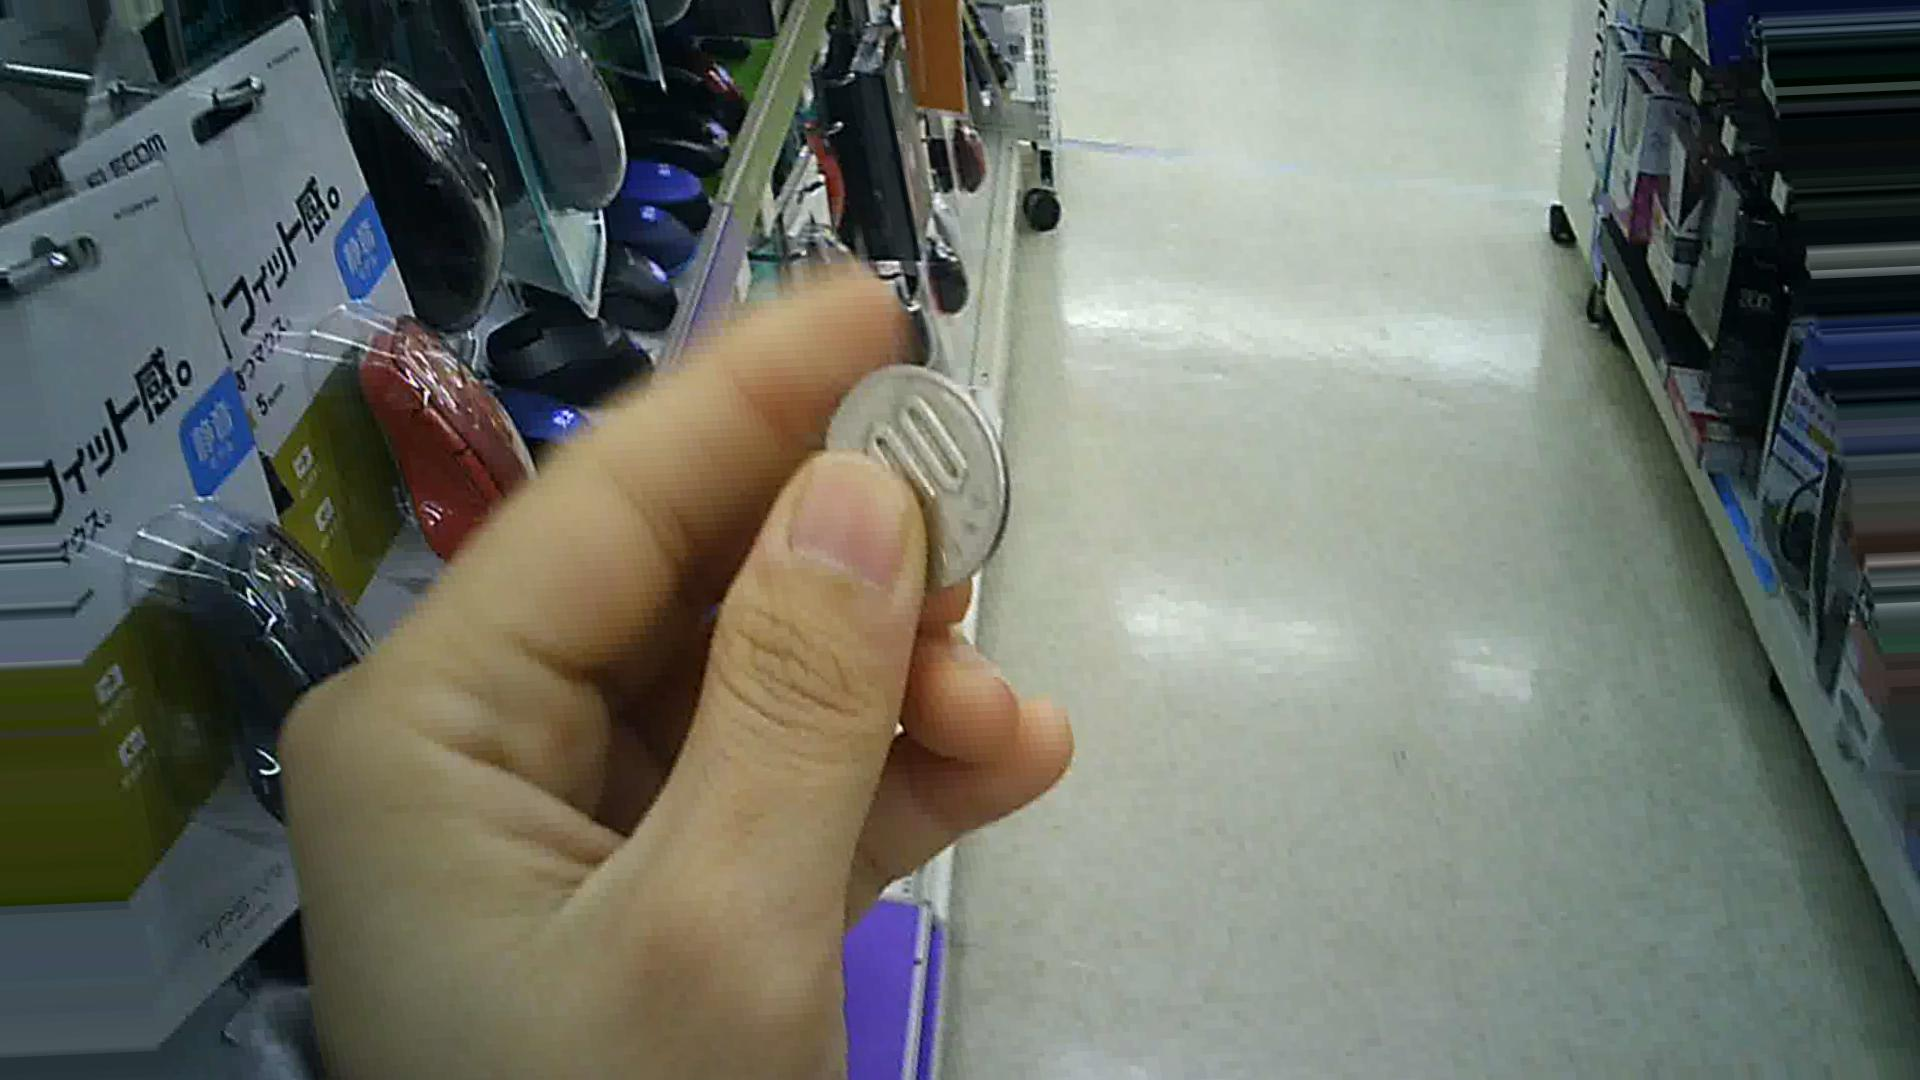100 Yen: (800, 363, 1021, 603)
